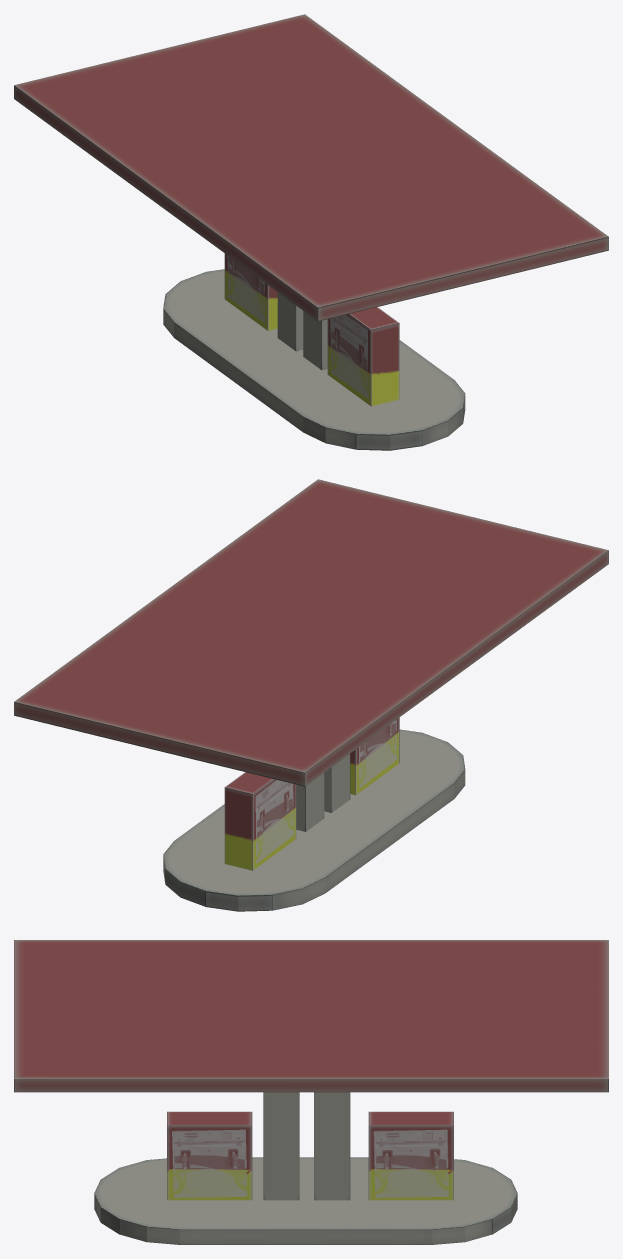
Rendered from posto_de_gasolina_Texturizado.fbx.
3 renders of one model, top to bottom at view 1: azimuth 30°, elevation 25°; view 2: azimuth 150°, elevation 25°; view 3: azimuth 270°, elevation 25°, orthographic. The views are drawn at different scales.
Parts seen in each view (by area): view 1: Cube.001; view 2: Cube.001; view 3: Cube.001.
Boxes of the visible parts, x1,y1,x2,y2 form: Cube.001: (14,14,608,450); Cube.001: (14,479,608,911); Cube.001: (14,940,608,1244).
Size of the model in its own units: 385 by 258 by 697.
1 material, 1 textured.
